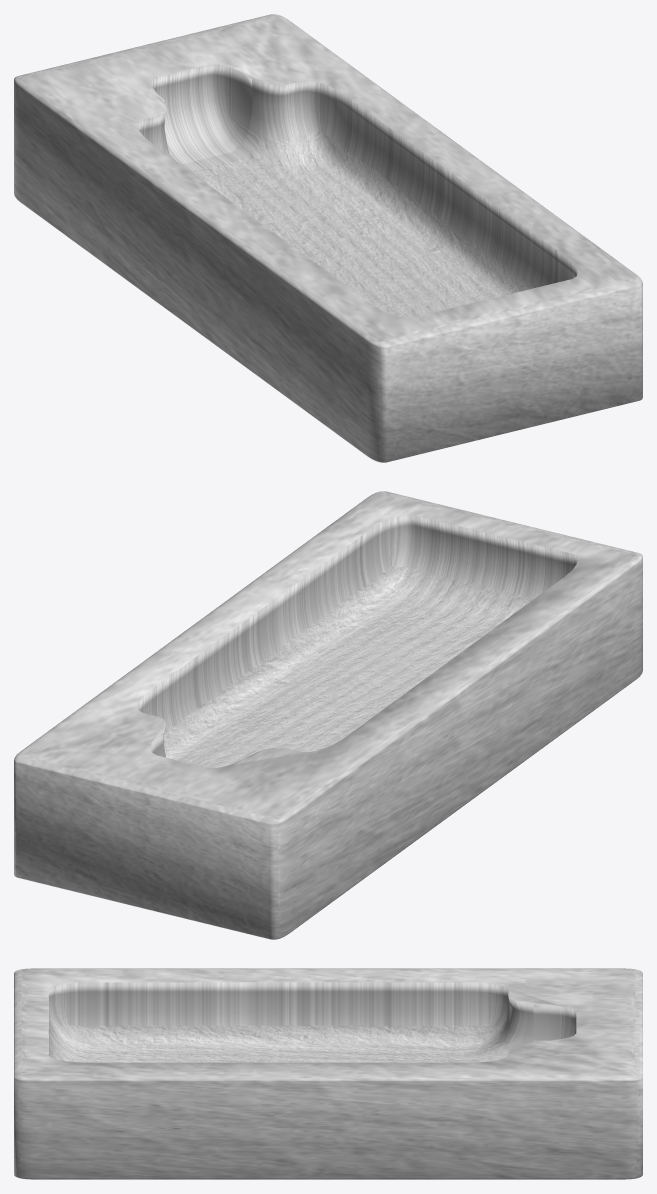
The picture shows the model from 3 angles, top to bottom: view 1: azimuth 30°, elevation 25°; view 2: azimuth 150°, elevation 25°; view 3: azimuth 270°, elevation 25°; orthographic projection. The views are drawn at different scales.
Parts seen in each view (by area): view 1: Cube; view 2: Cube; view 3: Cube.
Part boxes in pixels (x1,y1,x2,y2): Cube: [14, 14, 642, 462]; Cube: [14, 491, 642, 939]; Cube: [14, 968, 642, 1179].
Bounding box in the file's own units: 2.83 × 1.22 × 6.73.
Materials: 1 (1 with a texture image).
